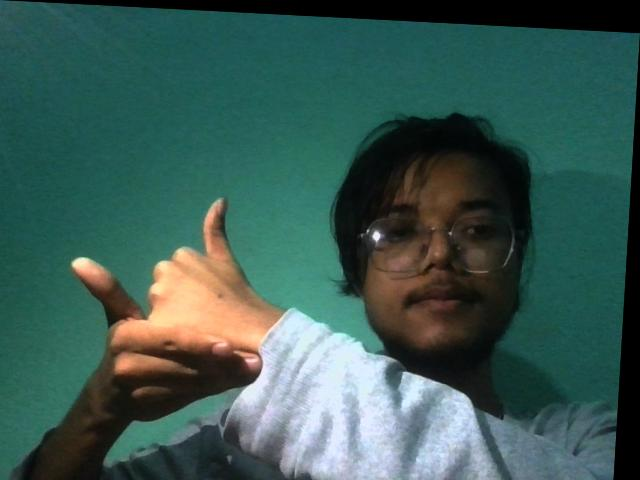help: (60, 180, 316, 426)
